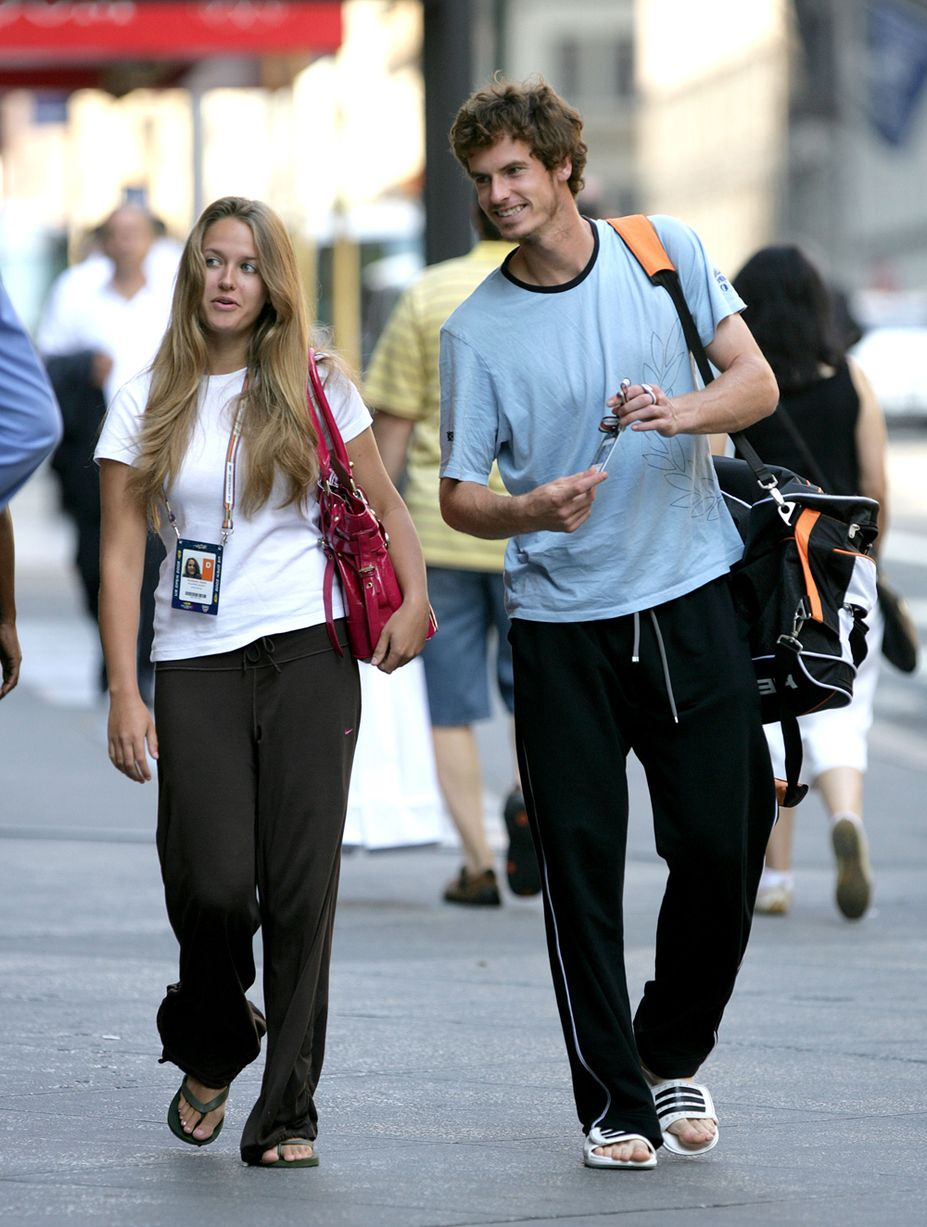Person: (443, 74, 779, 1174), (97, 197, 427, 1169)
